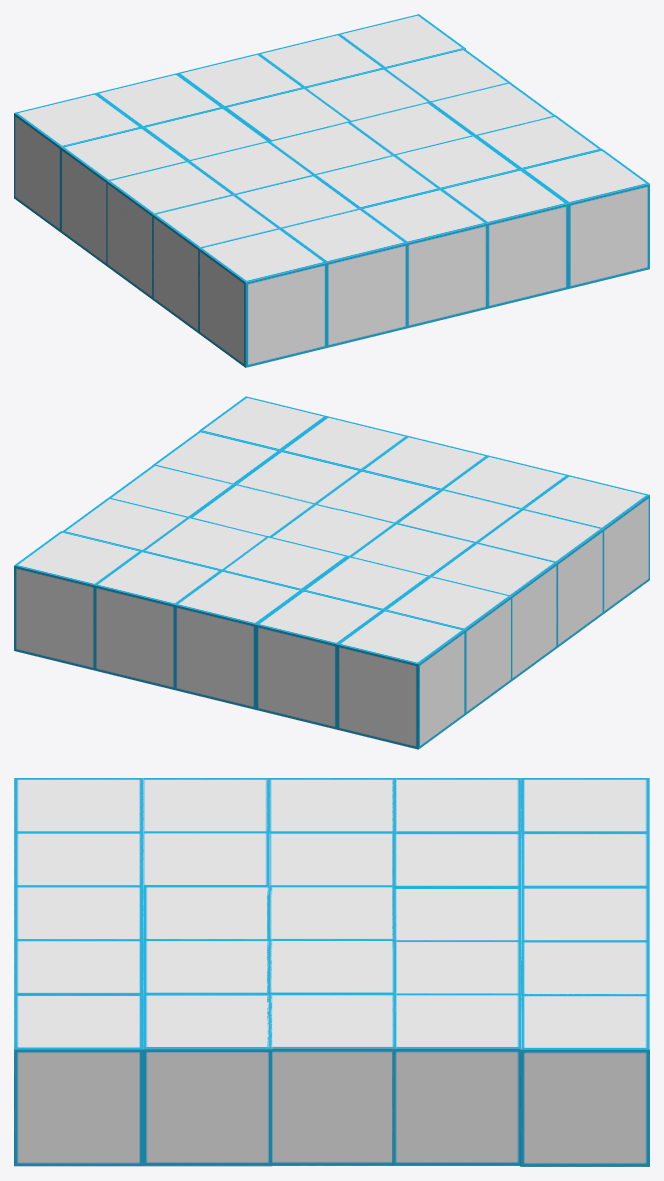
File: BoxTest1.fbx
The picture shows the model from 3 angles, top to bottom: view 1: azimuth 30°, elevation 25°; view 2: azimuth 150°, elevation 25°; view 3: azimuth 270°, elevation 25°; orthographic projection. The views are drawn at different scales.
Visible parts, largest first — view 1: pCube2; view 2: pCube2; view 3: pCube2.
Part boxes in pixels (x1,y1,x2,y2): pCube2: (14, 14, 649, 367); pCube2: (14, 396, 649, 749); pCube2: (14, 778, 649, 1166).
Size of the model in its own units: 4.95 by 1 by 4.91.
Materials: 3 (3 with a texture image).
